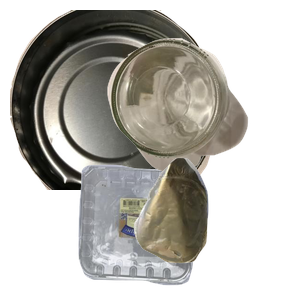glass: (105, 36, 300, 201)
metal: (10, 10, 221, 190)
plastic: (76, 162, 264, 300)
trash: (131, 155, 300, 300)
